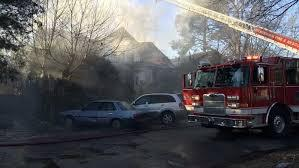smoke: (8, 0, 232, 136)
